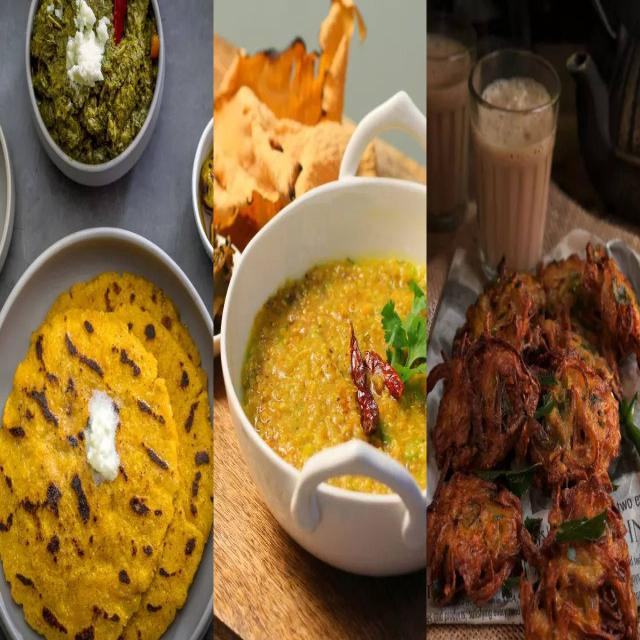BAJI: (517, 496, 640, 639), (527, 329, 615, 504), (439, 327, 534, 472), (427, 472, 519, 610)
ROTI: (0, 310, 174, 639)
